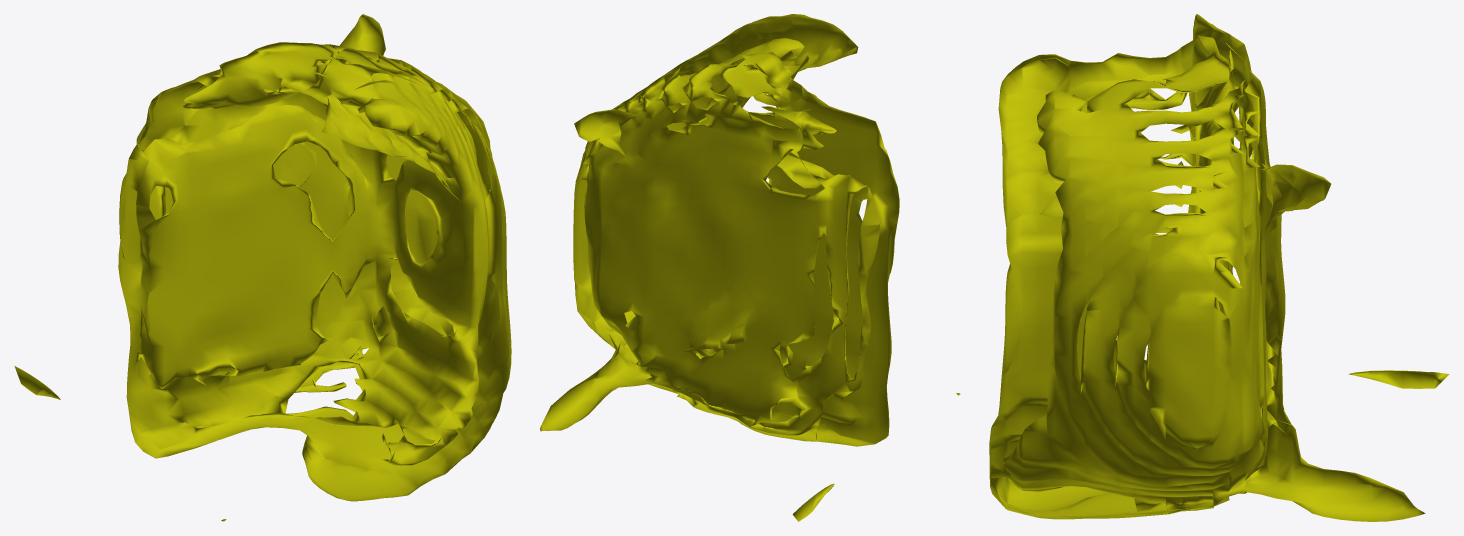
The picture shows the model from 3 angles, left to right: view 1: azimuth 30°, elevation 25°; view 2: azimuth 150°, elevation 25°; view 3: azimuth 270°, elevation 25°; orthographic projection. The views are drawn at different scales.
Parts seen in each view (by area): view 1: world; view 2: world; view 3: world.
Boxes of the visible parts, box(x1,y1,x2,y2) form: world: box(14, 14, 511, 521); world: box(540, 14, 960, 521); world: box(989, 14, 1449, 521).
Bounding box in the file's own units: 27.71 × 30.77 × 29.11.
